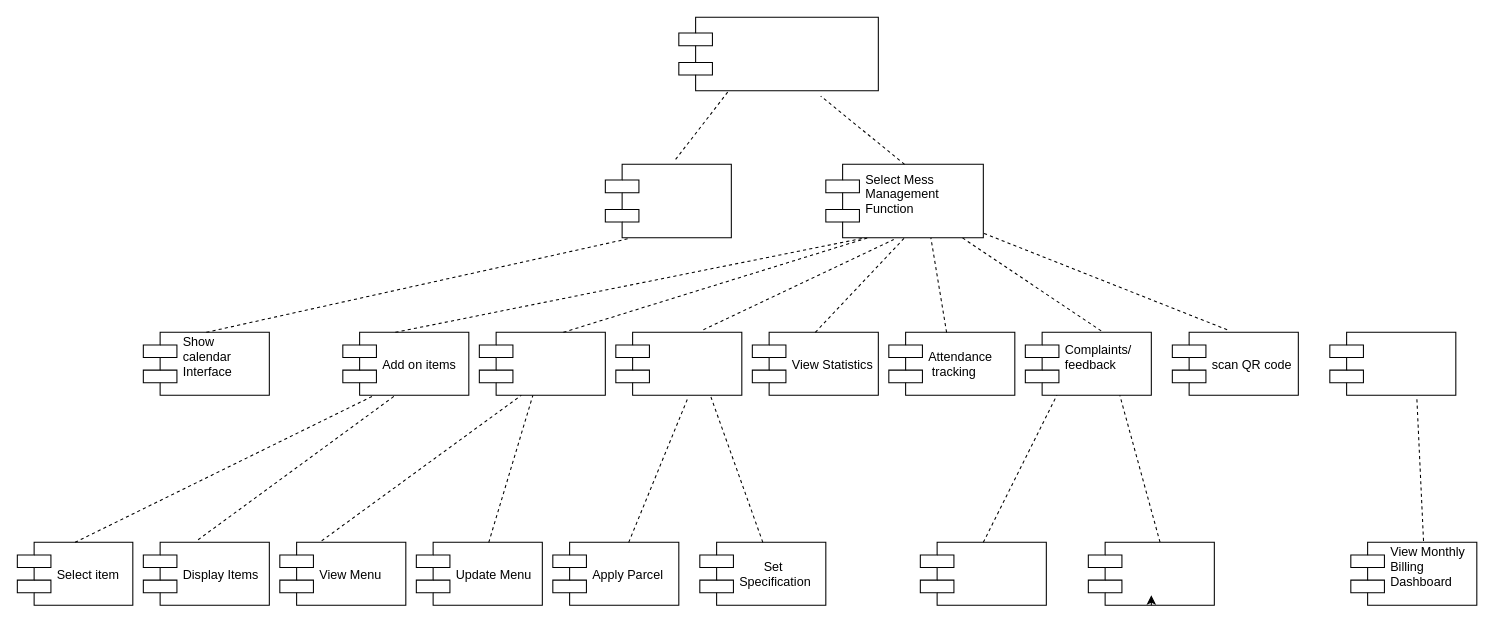
This 1494x623 diagram has some shape labels left out. The shapes that lost their labels are listed below. From the top down, each one's centre as x and y in pixels, then its label:
At point (778, 53): "Mess Management System".
At point (667, 200): "Calendar Interface".
At point (541, 363): "Menu Management".
At point (678, 363): "Parcel System".
At point (1392, 363): "Billing Dashboard".
At point (982, 573): "Make Complaint".
At point (1150, 573): "View Complaint".
